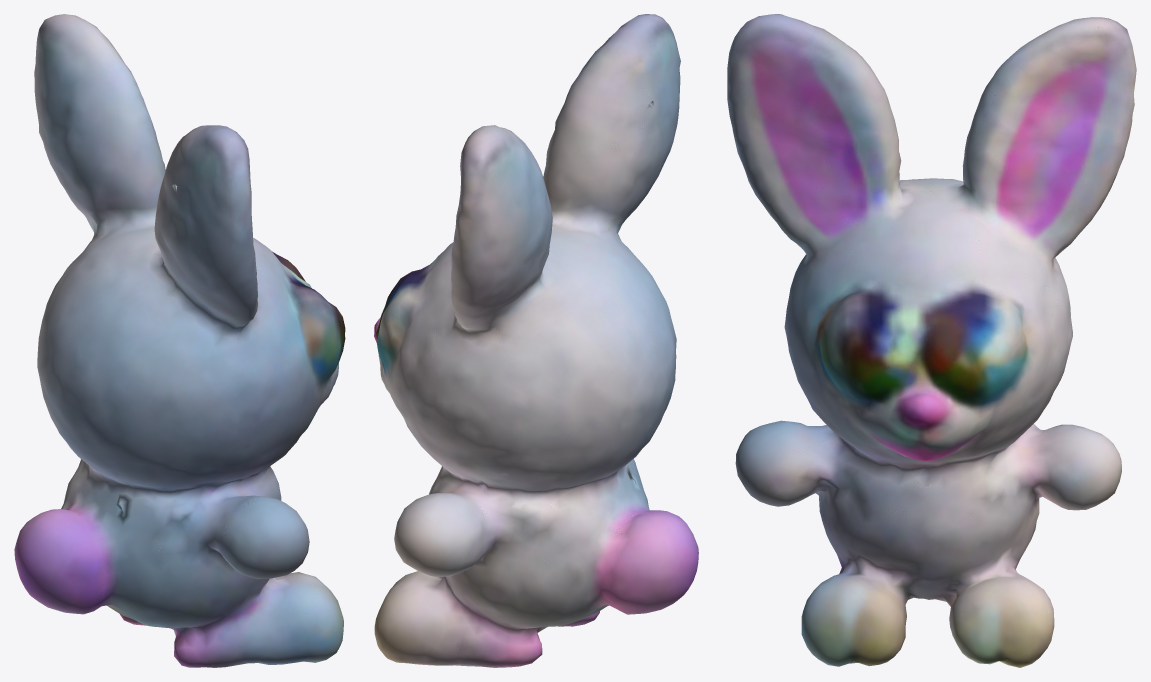
The model's file is 032_Create_rabbit_with_Oval_face_with_deep_set_eyes_a_slig_0614161317_preview.obj.
The picture shows the model from 3 angles, left to right: view 1: azimuth 30°, elevation 25°; view 2: azimuth 150°, elevation 25°; view 3: azimuth 270°, elevation 25°; orthographic projection.
Parts seen in each view (by area): view 1: Mesh1; view 2: Mesh1; view 3: Mesh1.
Part boxes in pixels (x1=…): Mesh1: x1=14, y1=14, x2=345, y2=667; Mesh1: x1=374, y1=14, x2=698, y2=667; Mesh1: x1=727, y1=14, x2=1136, y2=667.
Bounding box in the file's own units: 0.6842 × 1.2 × 0.7547.
1 material, 1 textured.
